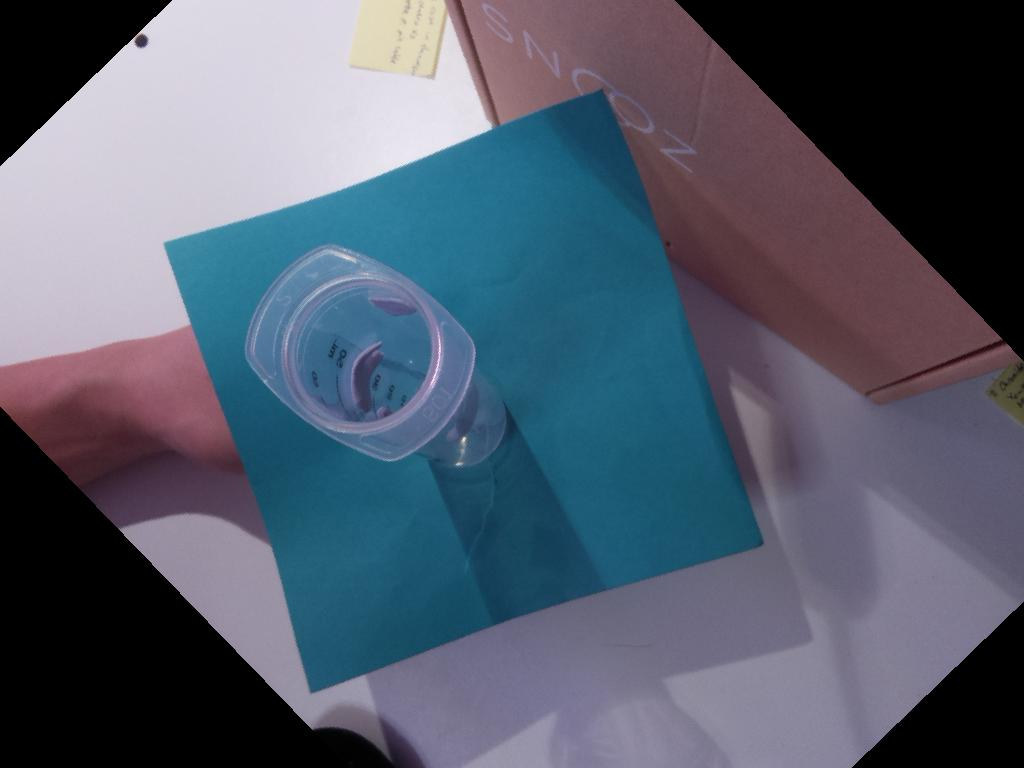dirty: (244, 243, 476, 461)
